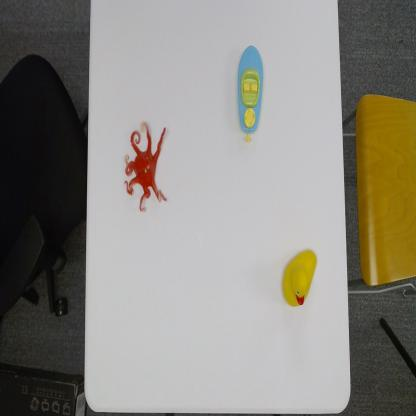Boat: (237, 43, 264, 144)
Duck: (281, 248, 318, 310)
Octopus: (122, 120, 167, 214)
